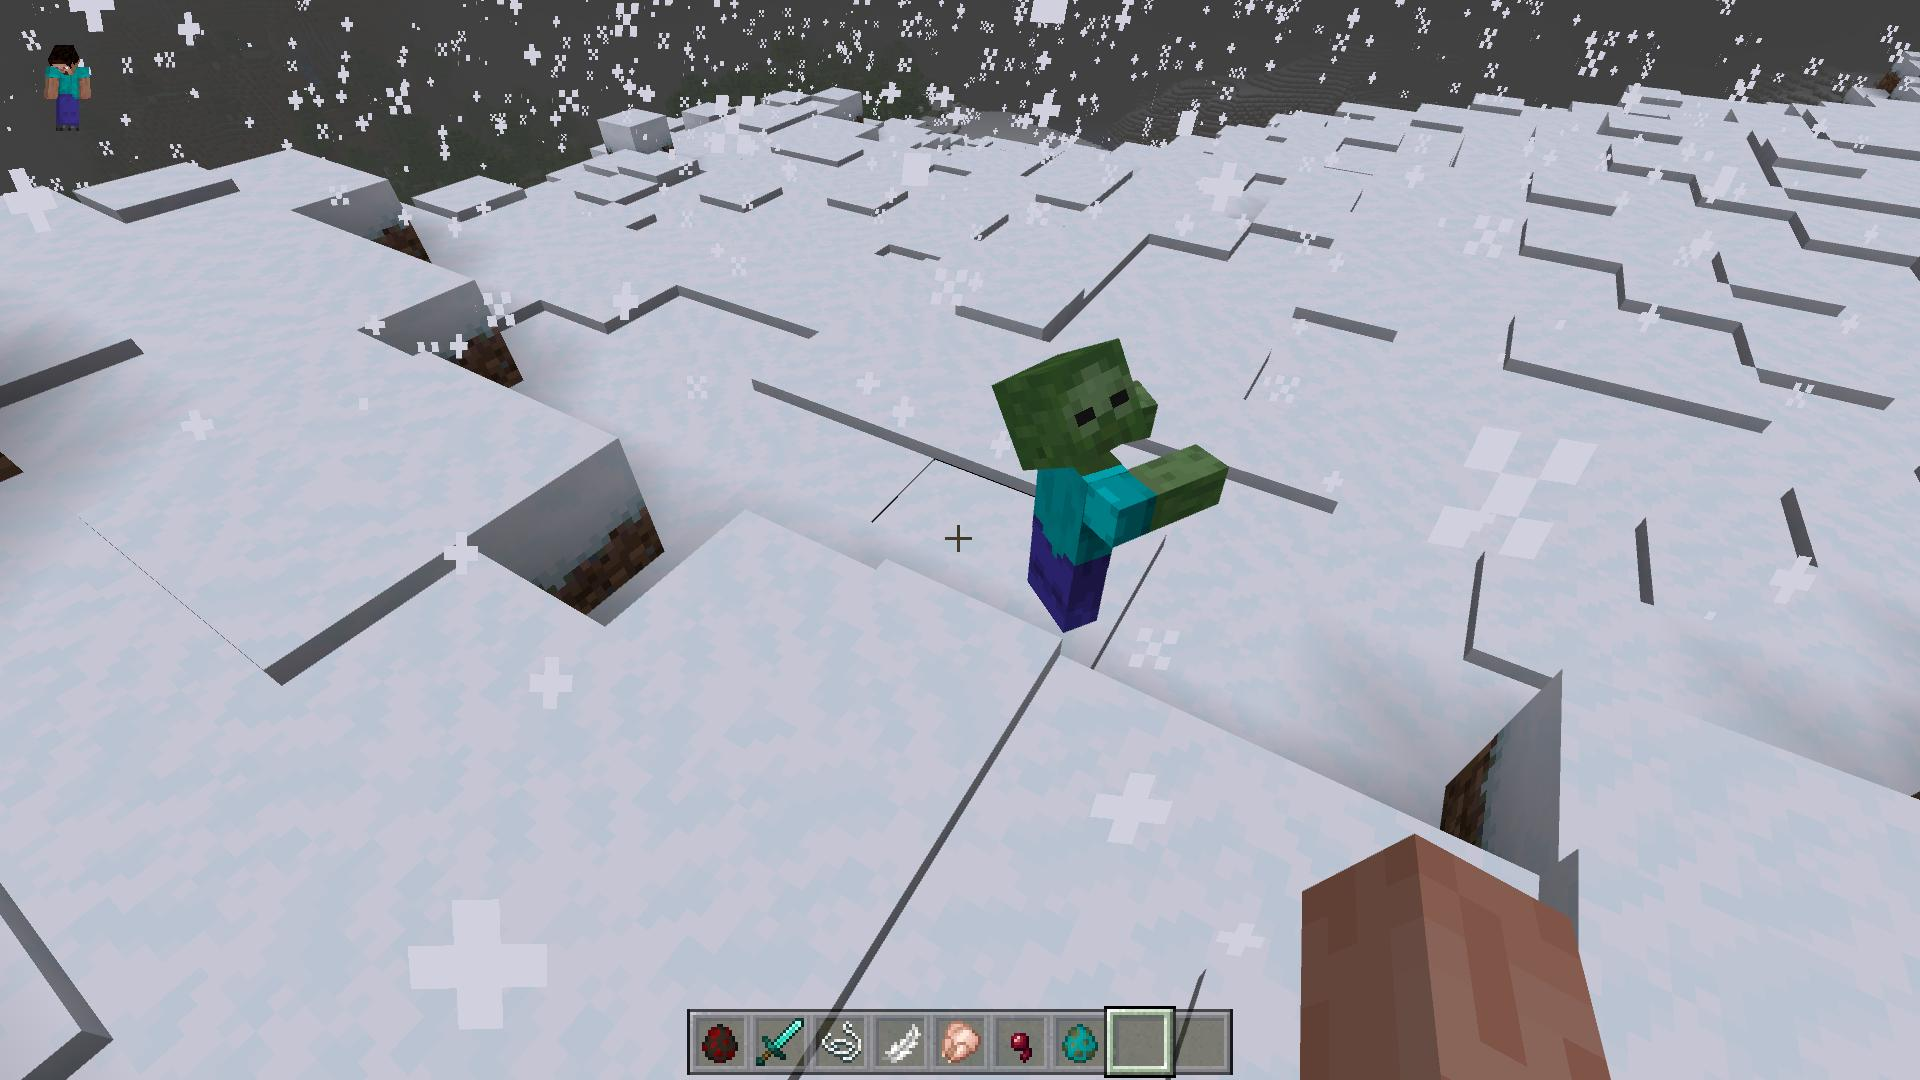zombie: (990, 336, 1221, 626)
